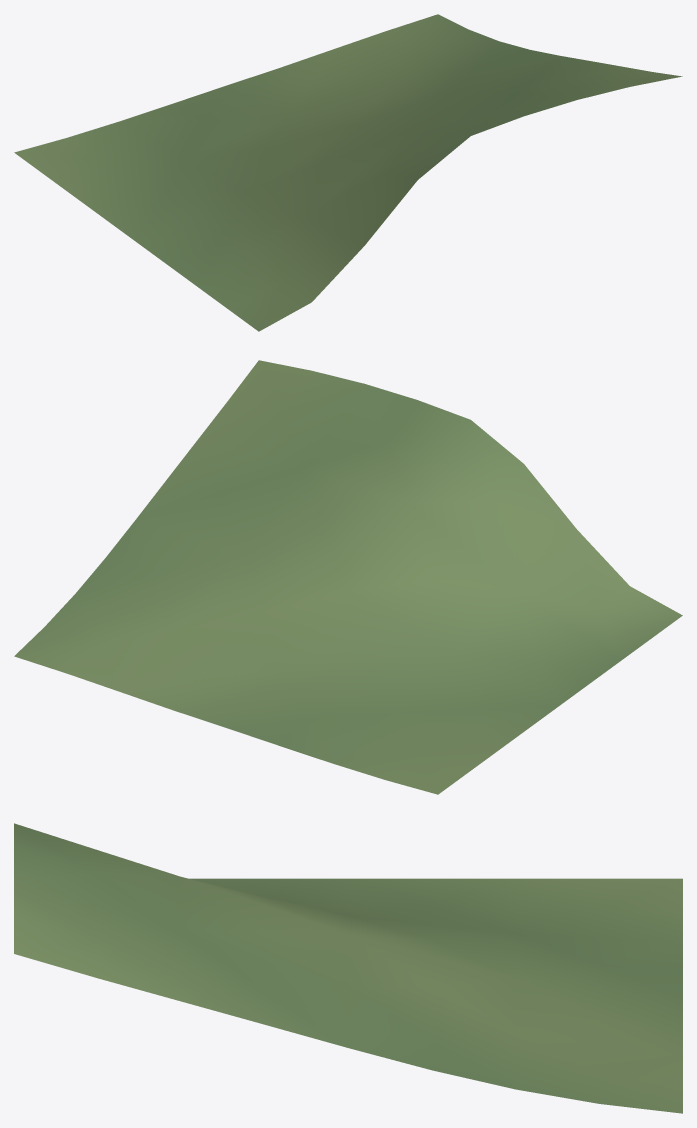
Rendered from Terrain-5-4-2.glb.
3 views of the same model, one above another, from view 1: azimuth 30°, elevation 25°; view 2: azimuth 150°, elevation 25°; view 3: azimuth 270°, elevation 25° (orthographic). The views are drawn at different scales.
Visible parts, largest first — view 1: Terrain-5-4-2; view 2: Terrain-5-4-2; view 3: Terrain-5-4-2.
Boxes of the visible parts, x1,y1,x2,y2 form: Terrain-5-4-2: (14,14,682,331); Terrain-5-4-2: (14,360,682,794); Terrain-5-4-2: (14,823,682,1113).
Size of the model in its own units: 6 by 2.09 by 6.
